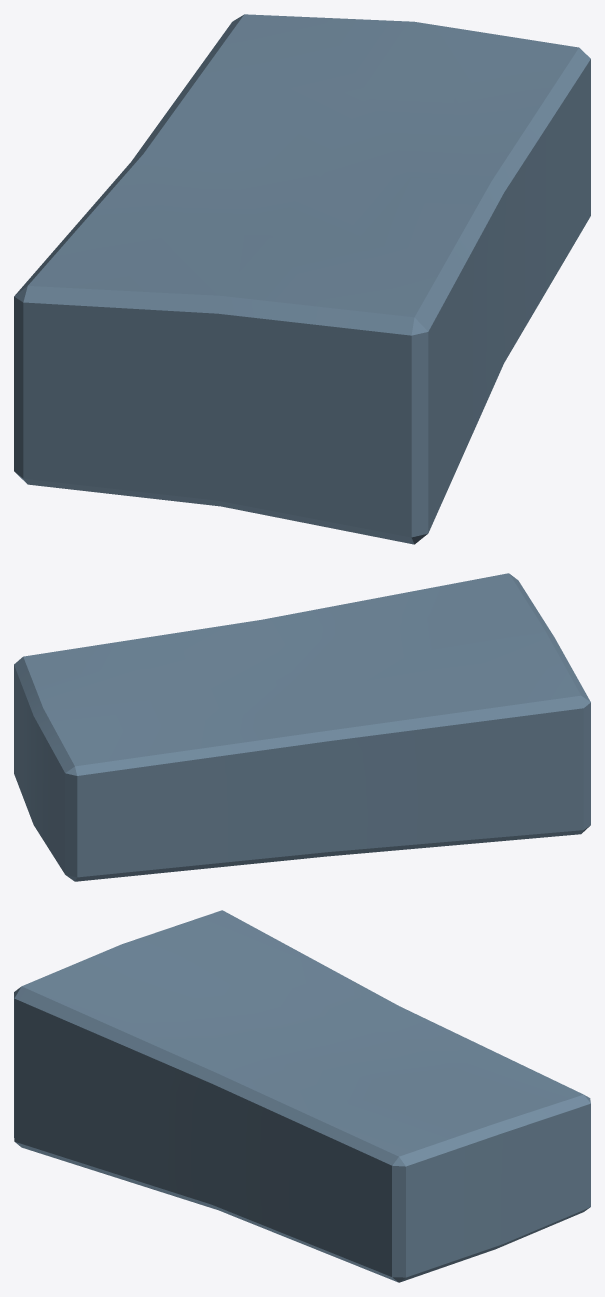
The model's file is Blue2.fbx.
The picture shows the model from 3 angles, top to bottom: view 1: azimuth 30°, elevation 25°; view 2: azimuth 150°, elevation 25°; view 3: azimuth 270°, elevation 25°; orthographic projection. The views are drawn at different scales.
Parts seen in each view (by area): view 1: rectangle; view 2: rectangle; view 3: rectangle.
Part boxes in pixels (bbox=[...]): rectangle: bbox=[14, 14, 590, 544]; rectangle: bbox=[14, 573, 590, 881]; rectangle: bbox=[14, 910, 590, 1282].
Bounding box in the file's own units: 2.59 × 0.8109 × 2.63.
